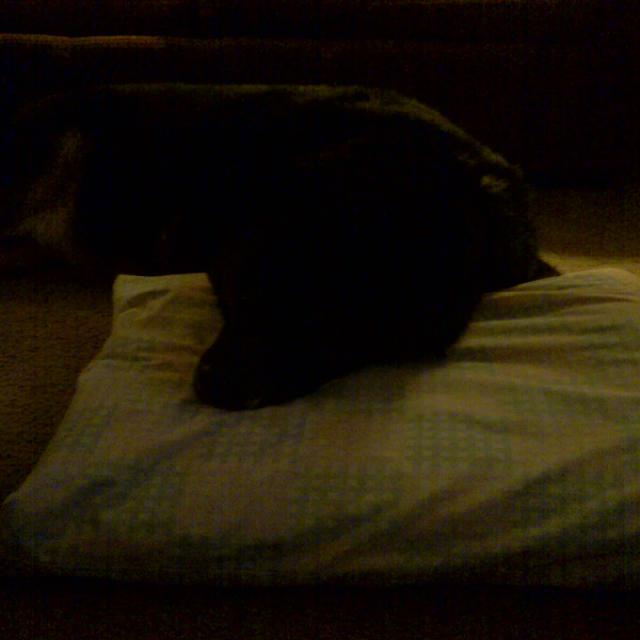dog: (82, 28, 640, 441)
